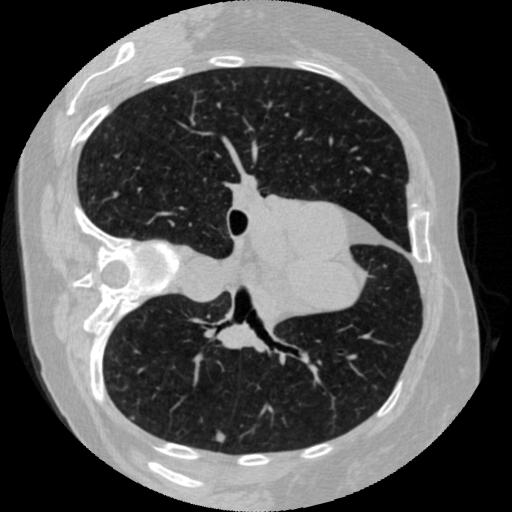nodule: (213, 429, 230, 446)
